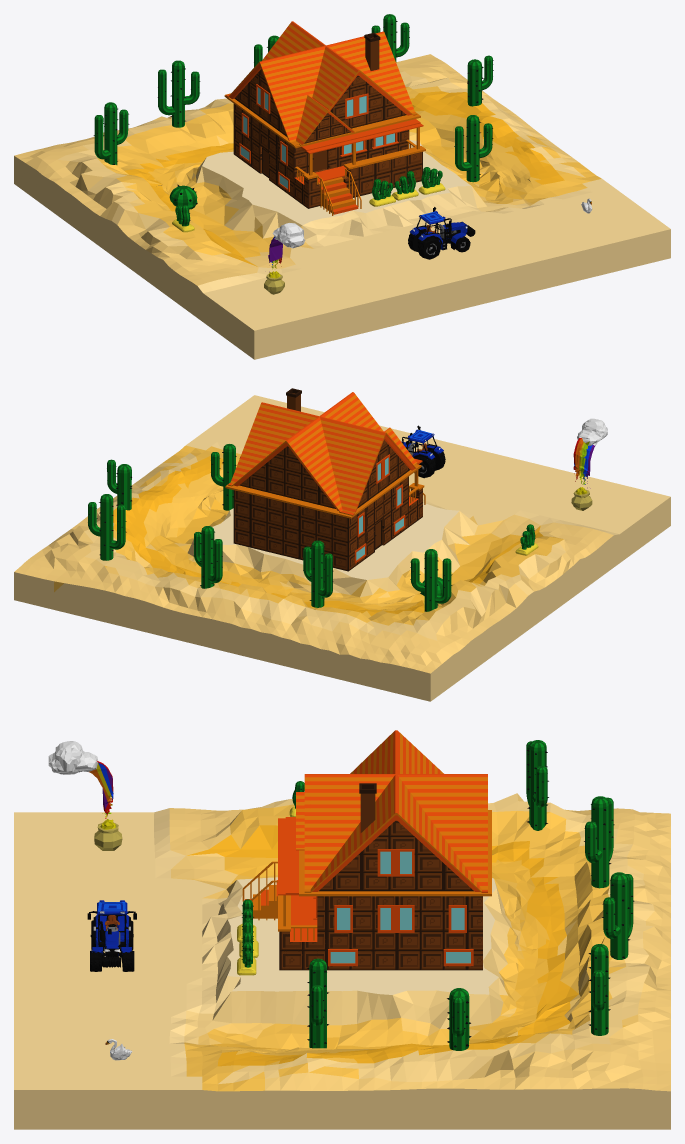
3 views of the same model, one above another, from view 1: azimuth 30°, elevation 25°; view 2: azimuth 150°, elevation 25°; view 3: azimuth 270°, elevation 25° (orthographic). The views are drawn at different scales.
Parts seen in each view (by area): view 1: Cube.001, Cube, VEHICLES_TRACTOR, Cylinder.037, Cylinder.044, Cylinder.045, OBJRANDOM_RAINBOW, Cylinder.038, Cylinder.042, Cylinder.039, Cylinder.041, Sphere.023 (+1 smaller); view 2: Cube.001, Cube, Cylinder.042, Cylinder.045, OBJRANDOM_RAINBOW, Cylinder.044, Cylinder.043, VEHICLES_TRACTOR, Cylinder.037, Cylinder.038; view 3: Cube.001, Cube, VEHICLES_TRACTOR, OBJRANDOM_RAINBOW, Cylinder.043, Cylinder.044, Cylinder.045, Cylinder.042, Cylinder.037, Cylinder.038, Cylinder.041.
Part boxes in pixels (left/top/right/bottom): Cube.001: left=14, top=54, right=670, bottom=359; Cube: left=224, top=21, right=425, bottom=215; VEHICLES_TRACTOR: left=408, top=207, right=475, bottom=259; Cylinder.037: left=454, top=115, right=493, bottom=182; Cylinder.044: left=157, top=60, right=200, bottom=127; Cylinder.045: left=93, top=102, right=129, bottom=164; OBJRANDOM_RAINBOW: left=264, top=223, right=305, bottom=294; Cylinder.038: left=467, top=55, right=493, bottom=106; Cylinder.042: left=371, top=14, right=409, bottom=62; Cylinder.039: left=369, top=179, right=395, bottom=206; Cylinder.041: left=418, top=167, right=445, bottom=194; Sphere.023: left=169, top=184, right=197, bottom=209; Cube.001: left=14, top=395, right=670, bottom=701; Cube: left=225, top=388, right=425, bottom=571; Cylinder.042: left=88, top=494, right=126, bottom=560; Cylinder.045: left=410, top=549, right=452, bottom=611; OBJRANDOM_RAINBOW: left=571, top=418, right=607, bottom=510; Cylinder.044: left=303, top=540, right=333, bottom=607; Cylinder.043: left=193, top=526, right=222, bottom=588; VEHICLES_TRACTOR: left=401, top=425, right=445, bottom=478; Cylinder.037: left=211, top=444, right=240, bottom=510; Cylinder.038: left=107, top=459, right=131, bottom=510; Cube.001: left=14, top=793, right=670, bottom=1129; Cube: left=242, top=730, right=491, bottom=970; VEHICLES_TRACTOR: left=87, top=900, right=136, bottom=971; OBJRANDOM_RAINBOW: left=48, top=741, right=122, bottom=850; Cylinder.043: left=602, top=872, right=634, bottom=959; Cylinder.044: left=584, top=796, right=614, bottom=888; Cylinder.045: left=526, top=740, right=548, bottom=830; Cylinder.042: left=588, top=944, right=610, bottom=1035; Cylinder.037: left=307, top=958, right=328, bottom=1048; Cylinder.038: left=447, top=988, right=471, bottom=1050; Cylinder.041: left=237, top=932, right=256, bottom=975.
Bounding box in the file's own units: 4002 × 1643 × 4001.
33 materials, 3 textured.
